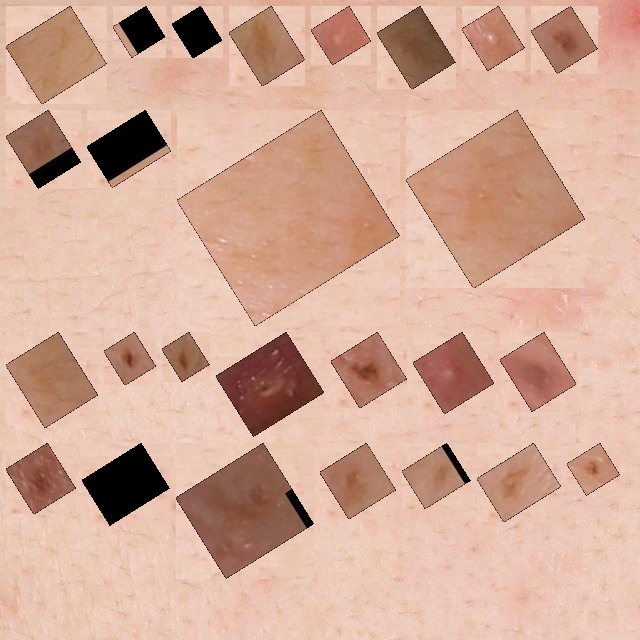melasma: (188, 121, 389, 315), (417, 121, 574, 277), (187, 454, 303, 567), (17, 17, 95, 93), (17, 343, 87, 417), (93, 454, 158, 514), (488, 454, 550, 511), (98, 121, 160, 176), (17, 121, 70, 177), (331, 454, 385, 508), (413, 454, 459, 497), (124, 17, 154, 46)
nevus: (240, 17, 294, 75), (511, 343, 565, 400), (17, 454, 65, 503), (542, 17, 586, 62), (115, 343, 145, 374), (578, 454, 609, 484), (183, 17, 211, 47), (173, 343, 198, 370)
pustule: (227, 343, 313, 425), (424, 343, 483, 403), (473, 17, 513, 59), (322, 17, 360, 54)
